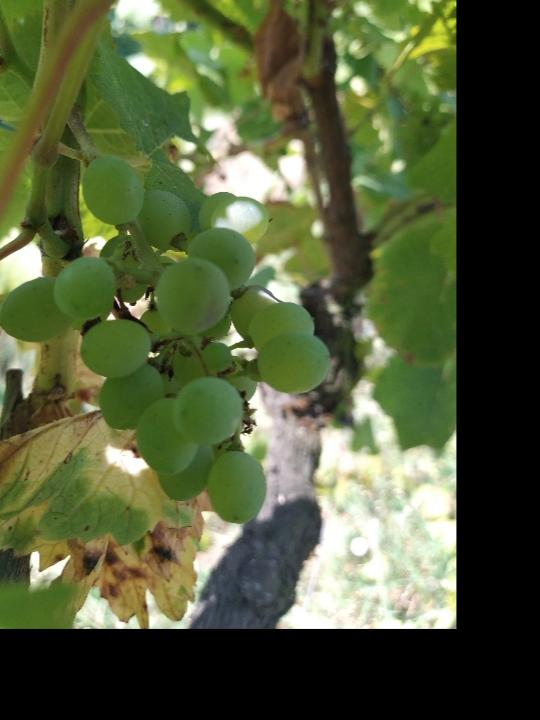grape: (0, 154, 334, 526)
